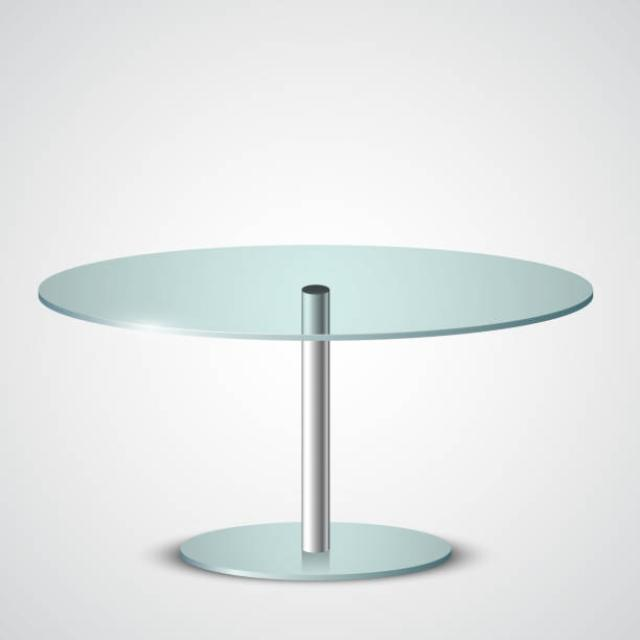table: (36, 242, 594, 582)
